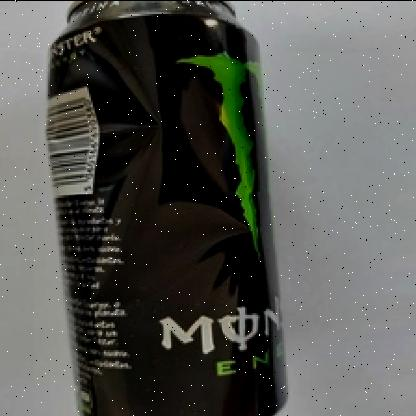Can: (36, 0, 288, 416)
